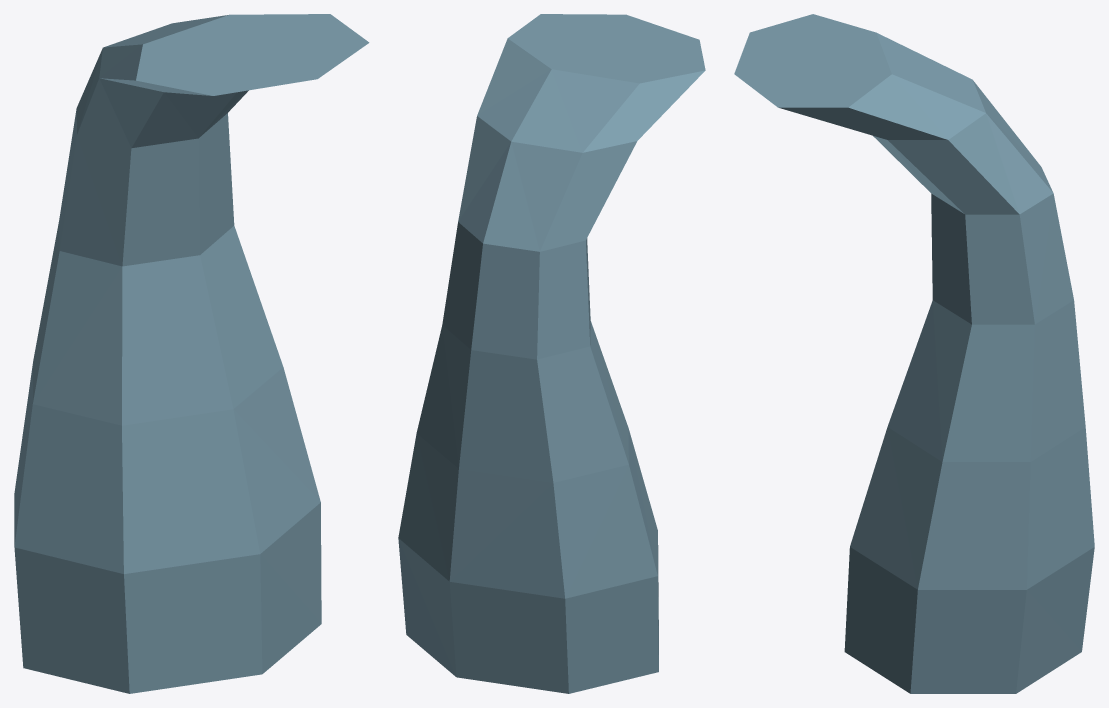
File: frost_predator_hindleg.glb
3 renders of one model, left to right at view 1: azimuth 30°, elevation 25°; view 2: azimuth 150°, elevation 25°; view 3: azimuth 270°, elevation 25°, orthographic. The views are drawn at different scales.
Parts seen in each view (by area): view 1: frost_predator_hindleg; view 2: frost_predator_hindleg; view 3: frost_predator_hindleg.
Boxes of the visible parts, bbox=[...] form: frost_predator_hindleg: bbox=[14, 14, 369, 693]; frost_predator_hindleg: bbox=[398, 14, 705, 693]; frost_predator_hindleg: bbox=[734, 14, 1094, 693].
Size of the model in its own units: 0.441 by 0.98 by 0.557.
